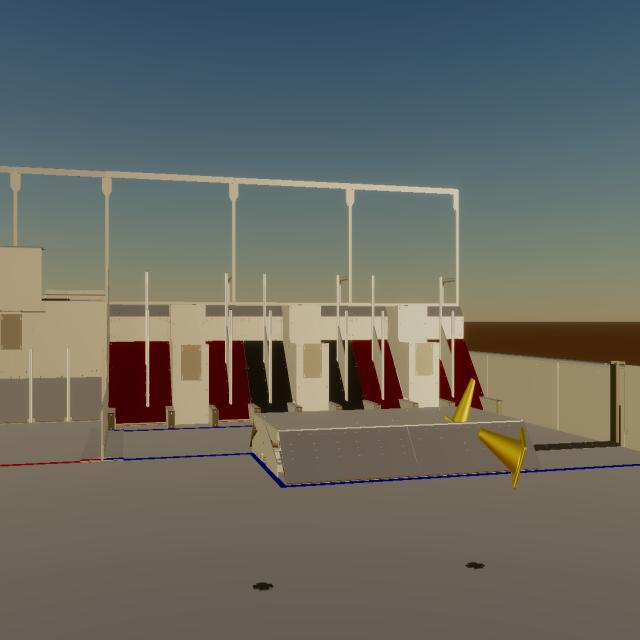frc_cone: (478, 427, 527, 490), (444, 377, 476, 422)
